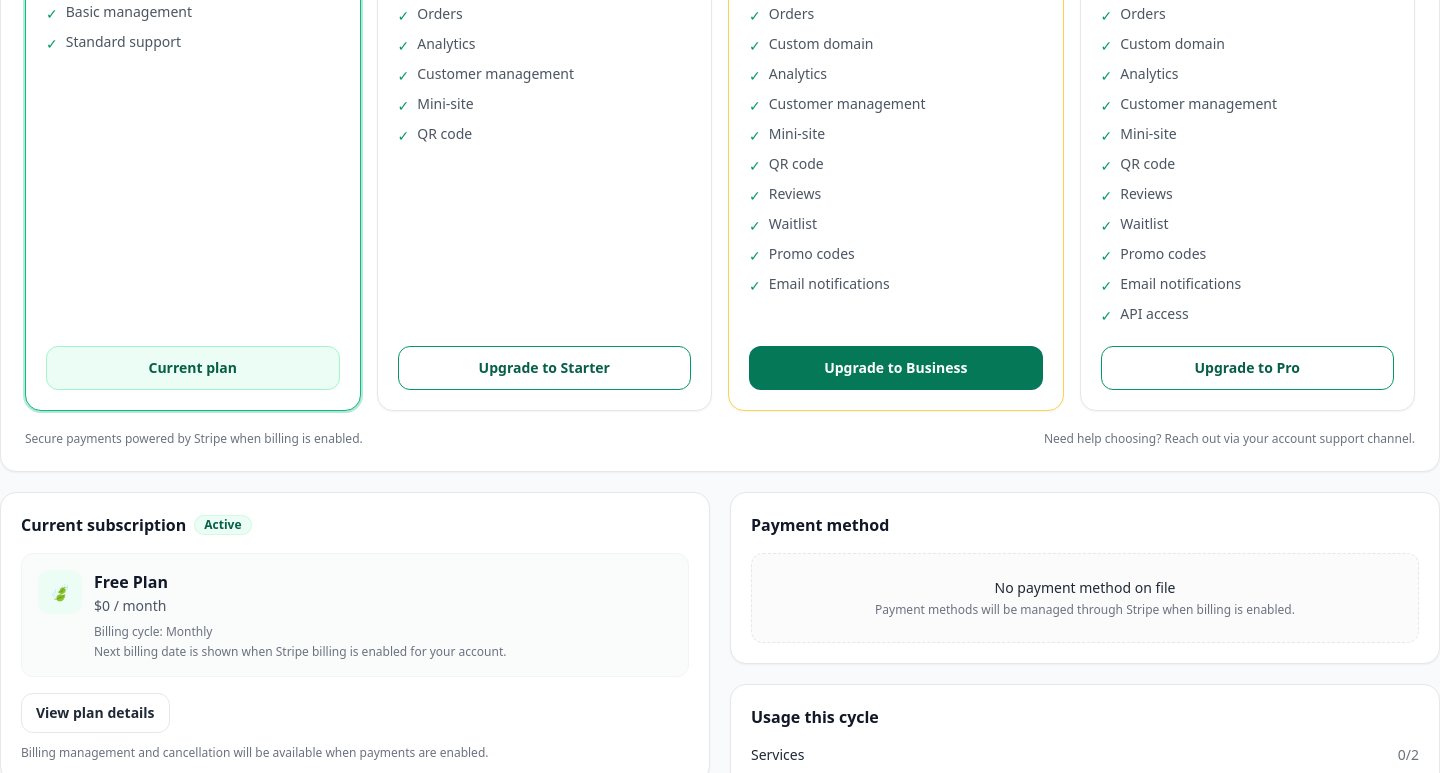
Test case: admin billing checkout › C. STRIPE_DISABLED creates real plan change request
The width and height of the screenshot is (1440, 773).
(page scrolled)
Click the button with test id "admin-payments-plan-cta-starter". click: [544, 368]
box: [398, 346, 691, 390]
(page scrolled)
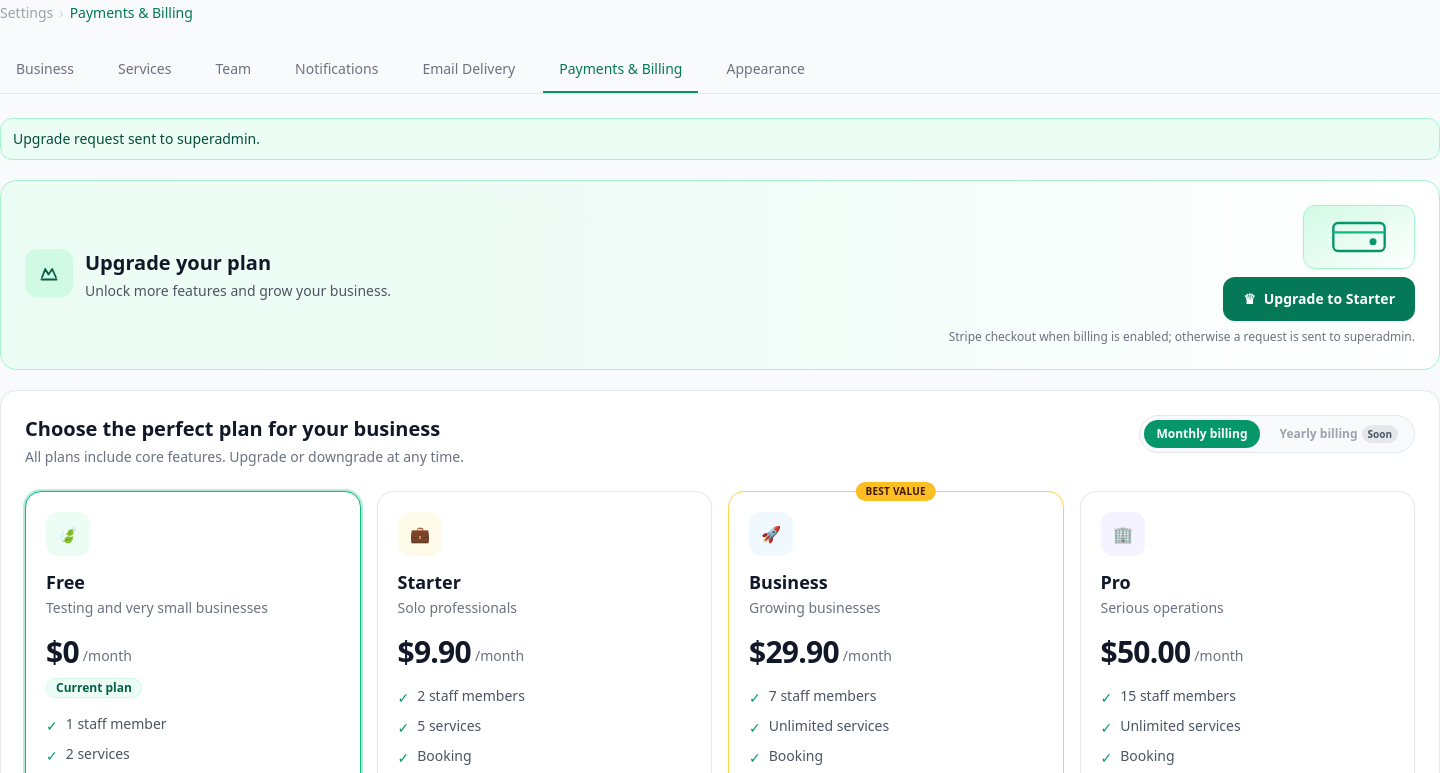
Check: the message with test id "admin-payments-action-feedback" reads "Upgrade request sent to superadmin.", box [13, 129, 260, 148]
